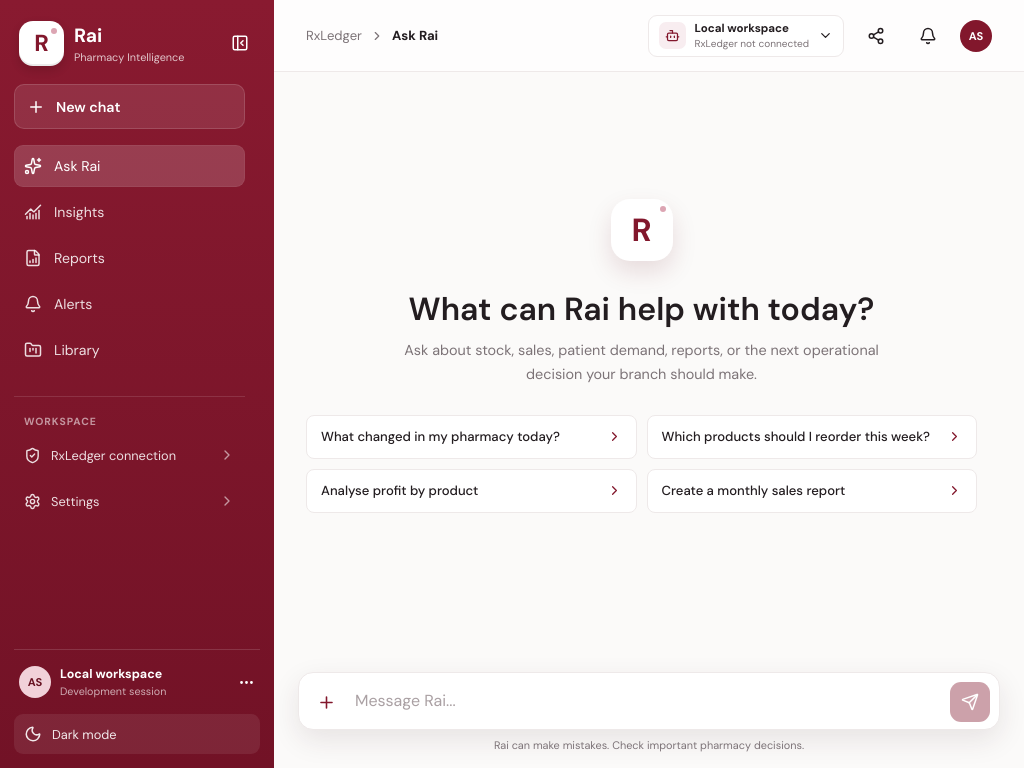
Test case: Rai frontend › explains a blocked request and tells the user what to do next
Type "Help me plan" into the text box named "Ask Rai" at [648, 701], box [351,680,945,722]
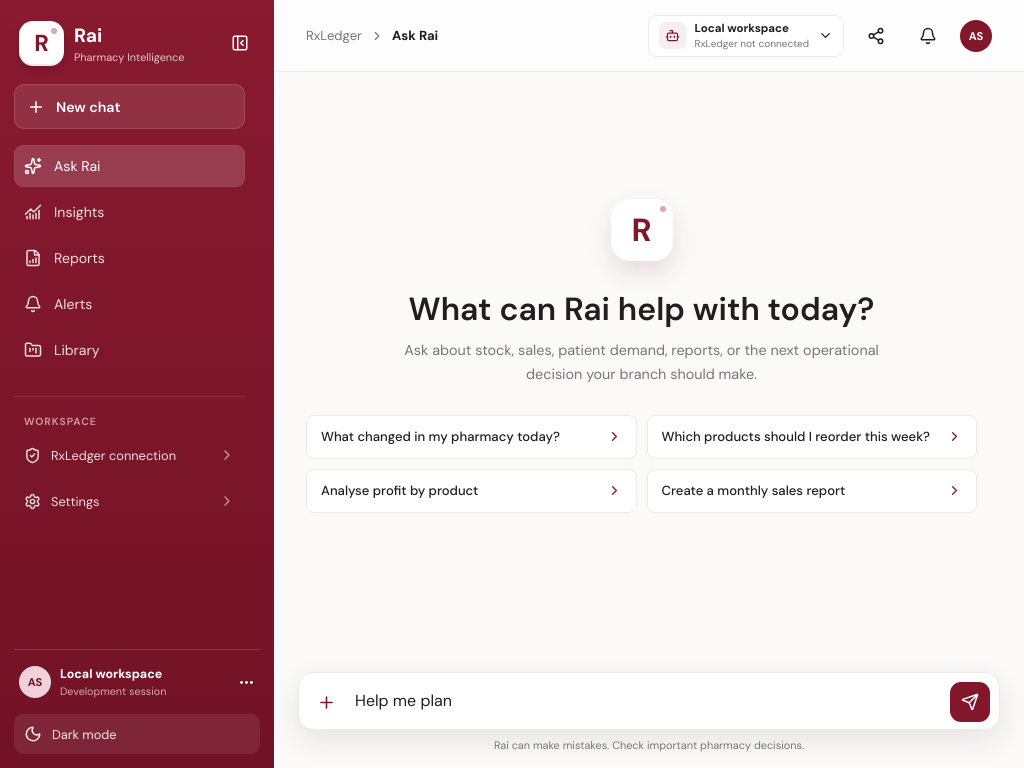
Click the button named "Send message" at [970, 702], box [950,682,990,722]
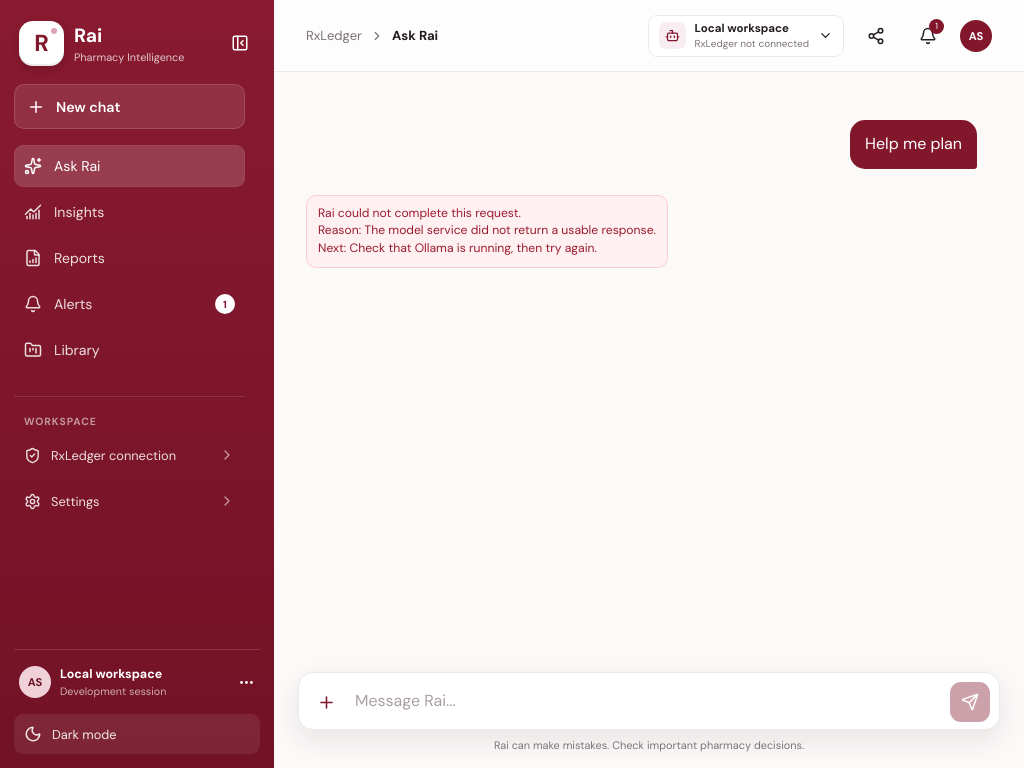
Now the message shows "Reason: The model service did not return a usable response.", box [318,205,656,256]
Now the message shows "Next: Check that Ollama is running, then try again.", box [318,205,656,256]
